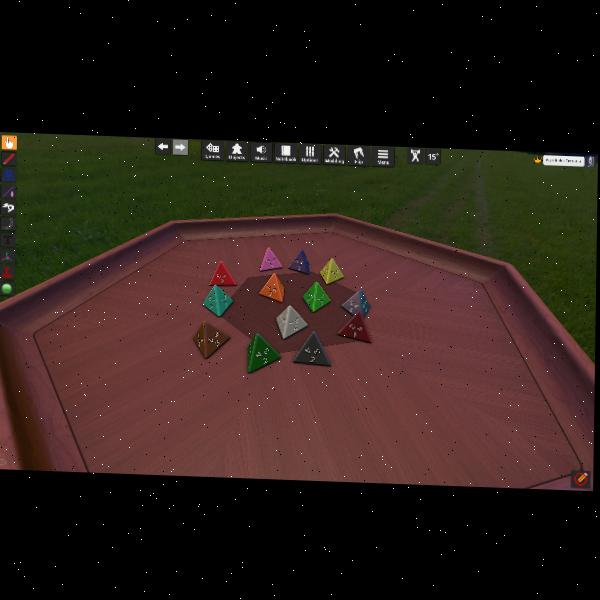d4: (245, 332, 281, 374), (194, 320, 230, 360), (293, 331, 333, 366), (337, 310, 372, 343), (276, 304, 307, 340), (203, 283, 234, 316), (303, 279, 331, 312), (341, 287, 368, 319), (259, 271, 285, 301), (209, 260, 235, 286), (260, 246, 283, 272), (321, 257, 343, 284), (288, 248, 309, 274)
